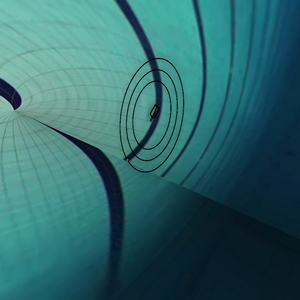circle: (96, 44, 211, 194)
submarine: (145, 100, 162, 127)
